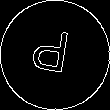P_S: (33, 27, 77, 83)
